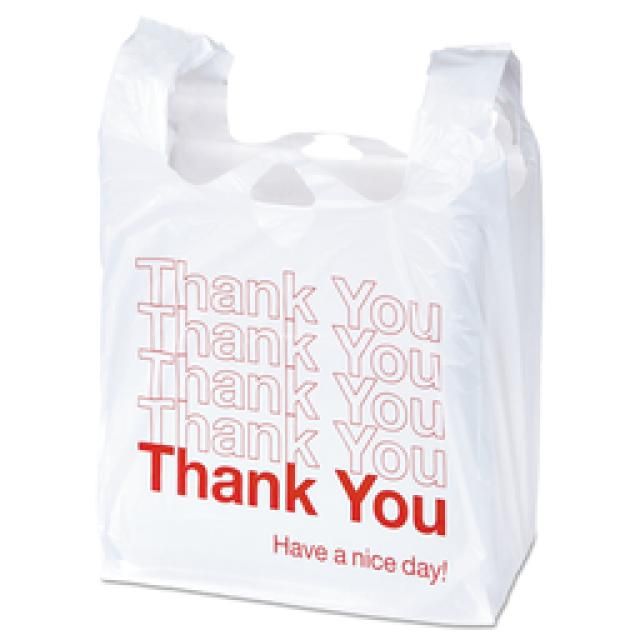plastic: (98, 20, 540, 622)
